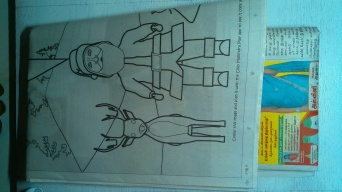p: (20, 9, 328, 187)
